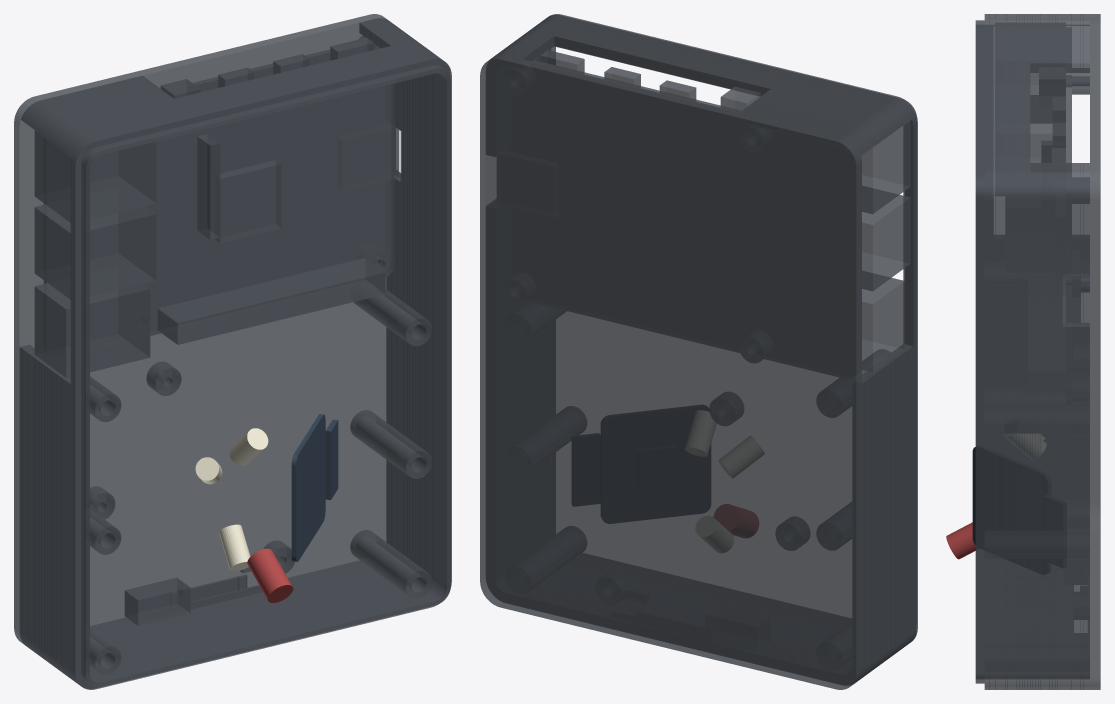
Rendered from step3.glb.
3 views of the same model, side by side, from view 1: azimuth 30°, elevation 25°; view 2: azimuth 150°, elevation 25°; view 3: azimuth 270°, elevation 25° (orthographic). The views are drawn at different scales.
Visible parts, largest first — view 1: shell_lower, mock_pi4b, mock_camera, mock_leds, mock_switch, mock_laser; view 2: shell_lower, mock_pi4b, mock_camera, mock_leds, mock_switch, mock_laser; view 3: shell_lower, mock_pi4b, mock_camera, mock_laser, mock_switch, mock_leds.
Boxes of the visible parts, x1=… form: shell_lower: x1=14, y1=14, x2=451, y2=689; mock_pi4b: x1=34, y1=37, x2=399, y2=377; mock_camera: x1=291, y1=414, x2=338, y2=561; mock_leds: x1=195, y1=428, x2=268, y2=571; mock_switch: x1=124, y1=577, x2=190, y2=625; mock_laser: x1=247, y1=548, x2=293, y2=602; shell_lower: x1=480, y1=14, x2=917, y2=689; mock_pi4b: x1=497, y1=50, x2=910, y2=378; mock_camera: x1=572, y1=405, x2=710, y2=523; mock_leds: x1=685, y1=410, x2=764, y2=552; mock_switch: x1=705, y1=605, x2=770, y2=651; mock_laser: x1=714, y1=504, x2=758, y2=537; shell_lower: x1=975, y1=14, x2=1100, y2=689; mock_pi4b: x1=996, y1=23, x2=1080, y2=404; mock_camera: x1=972, y1=446, x2=1066, y2=574; mock_laser: x1=946, y1=522, x2=978, y2=559; mock_switch: x1=1064, y1=559, x2=1089, y2=584; mock_leds: x1=1004, y1=434, x2=1045, y2=459.
Bounding box in the file's own units: 92 × 128 × 34.61.
